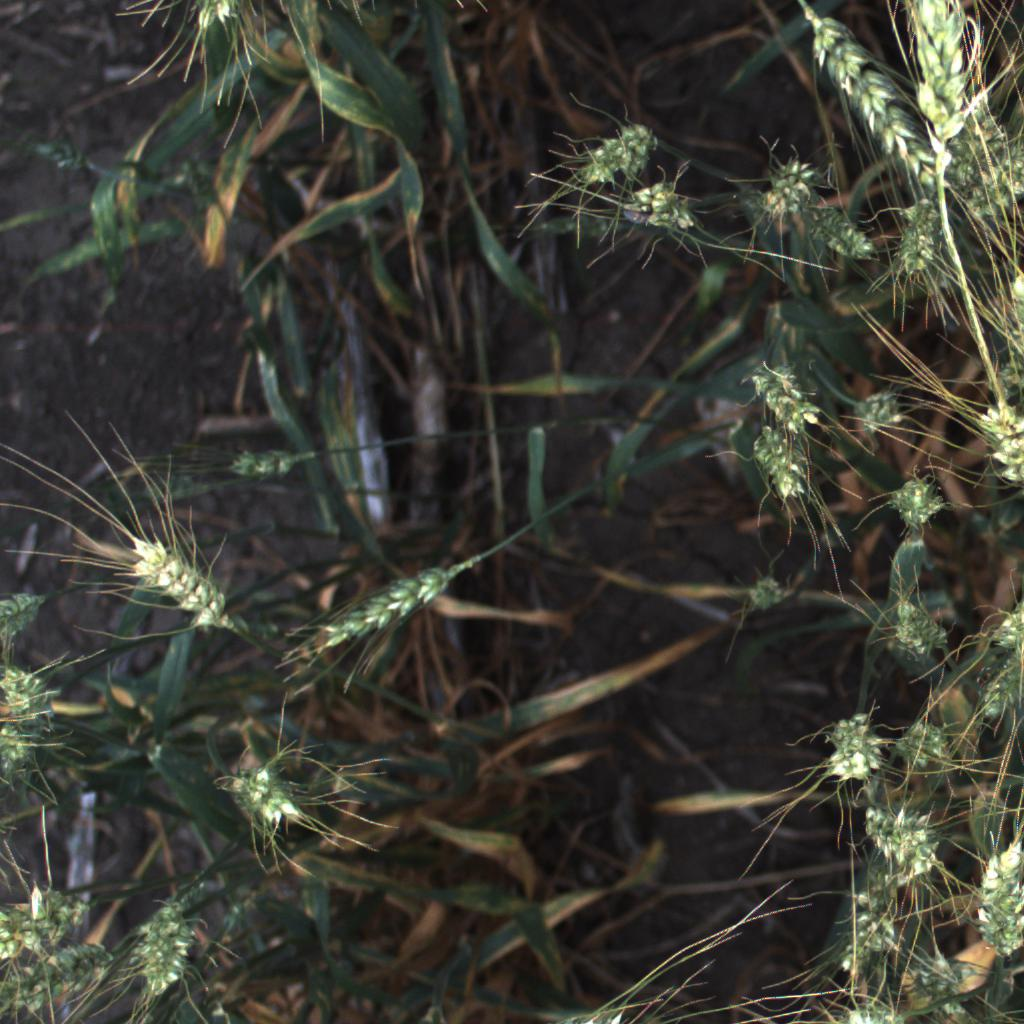0-0: (797, 8, 952, 198), (311, 552, 472, 663), (119, 519, 246, 642), (896, 0, 978, 179), (0, 933, 122, 1024), (573, 104, 668, 197), (224, 745, 311, 843), (0, 884, 100, 963), (741, 354, 833, 439), (742, 418, 822, 515), (969, 828, 1024, 964), (134, 896, 198, 1005), (820, 690, 886, 794), (859, 801, 944, 880), (961, 138, 1024, 242), (841, 872, 900, 975), (888, 576, 952, 670), (751, 144, 822, 226), (796, 200, 878, 268), (619, 174, 701, 241), (217, 437, 326, 486), (890, 193, 945, 288), (973, 393, 1024, 492), (875, 470, 953, 531), (915, 947, 973, 1024), (976, 638, 1024, 725), (0, 657, 58, 720), (729, 570, 800, 621), (890, 720, 956, 773), (854, 385, 914, 443), (0, 572, 58, 628), (175, 0, 247, 42), (984, 591, 1024, 659), (0, 596, 52, 643), (836, 994, 915, 1024), (0, 720, 39, 768), (1004, 261, 1024, 353)
